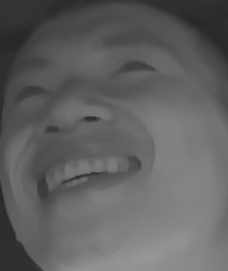eye: (113, 50, 157, 82), (11, 80, 56, 110)
mouth: (26, 146, 144, 208)
